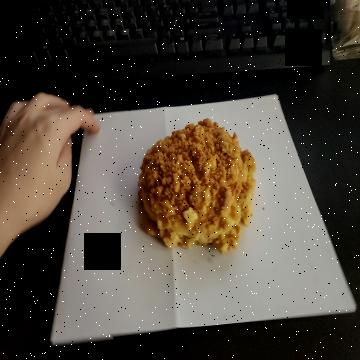soboru_bread: (139, 119, 258, 254)
